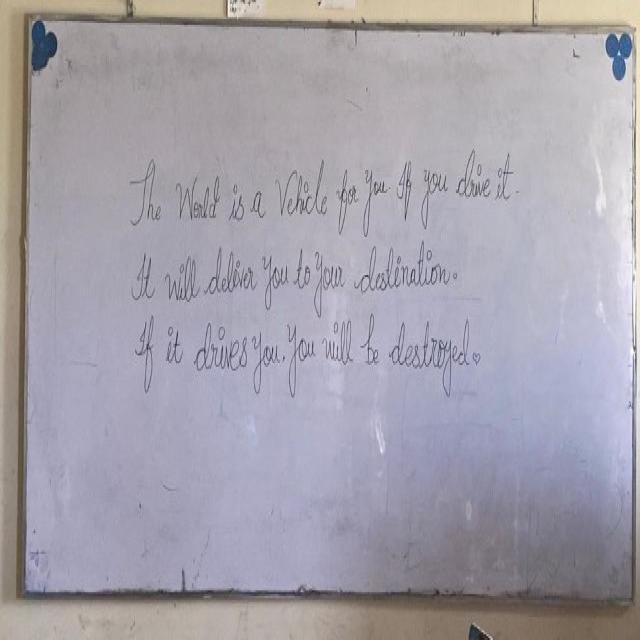White-board: (20, 18, 636, 605)
